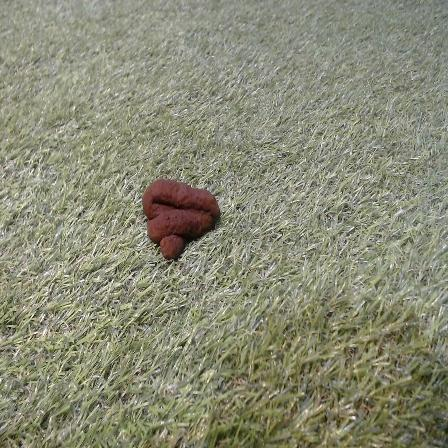dog-poop: (142, 177, 223, 264)
